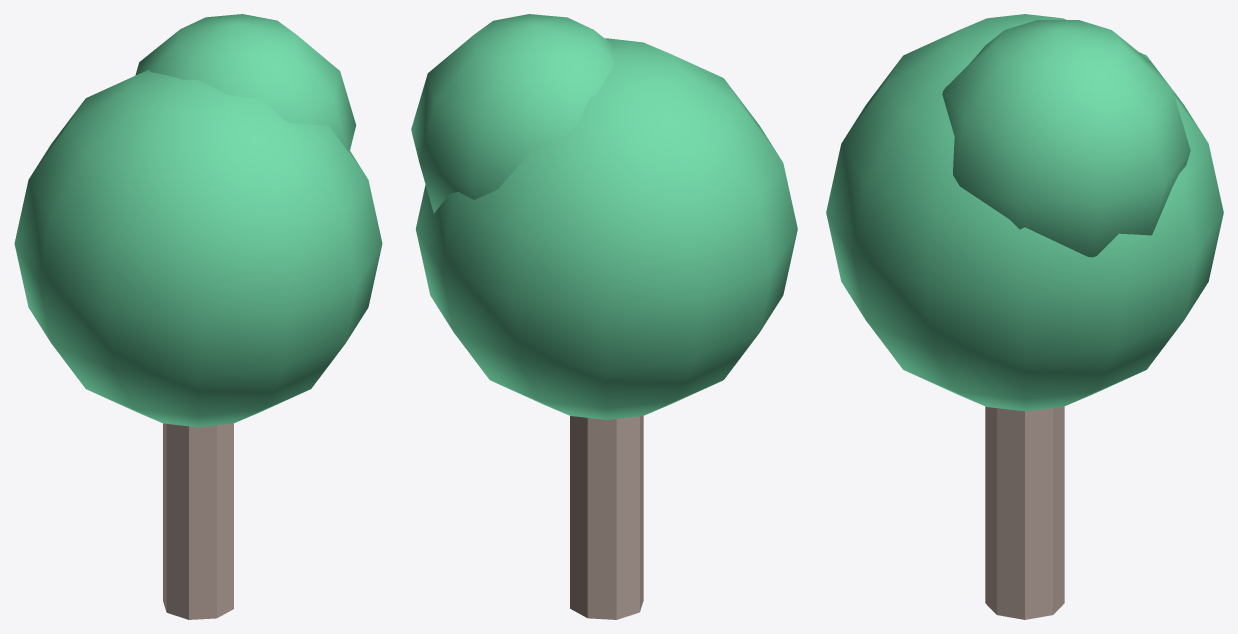
Rendered from Tree.fbx.
3 renders of one model, left to right at view 1: azimuth 30°, elevation 25°; view 2: azimuth 150°, elevation 25°; view 3: azimuth 270°, elevation 25°, orthographic. The views are drawn at different scales.
Parts seen in each view (by area): view 1: Tree; view 2: Tree; view 3: Tree.
Part boxes in pixels (<box>): Tree: <box>14,14,382,619</box>; Tree: <box>411,14,797,619</box>; Tree: <box>826,14,1223,619</box>.
Bounding box in the file's own units: 60 × 100 × 60.
